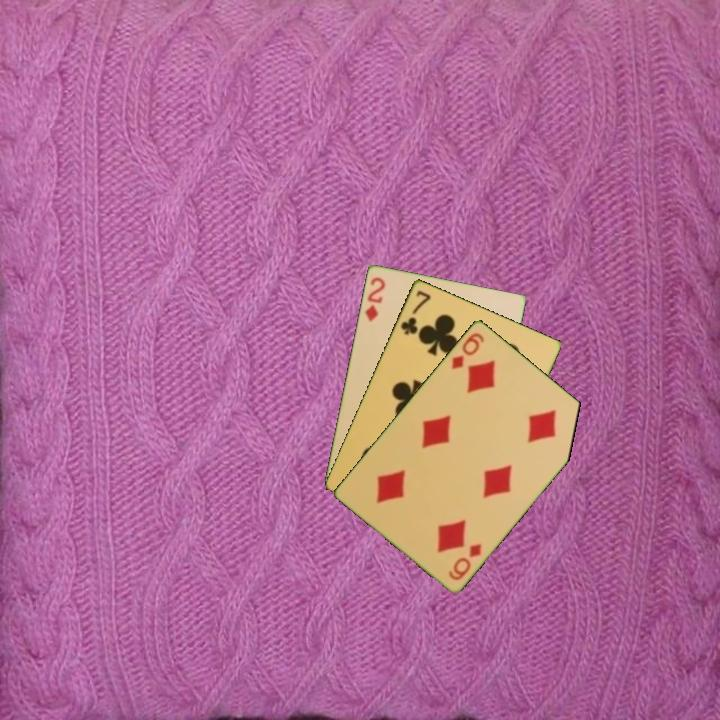2d: (361, 273, 388, 324)
6d: (447, 329, 487, 372), (445, 539, 484, 583)
7c: (397, 286, 433, 338)
